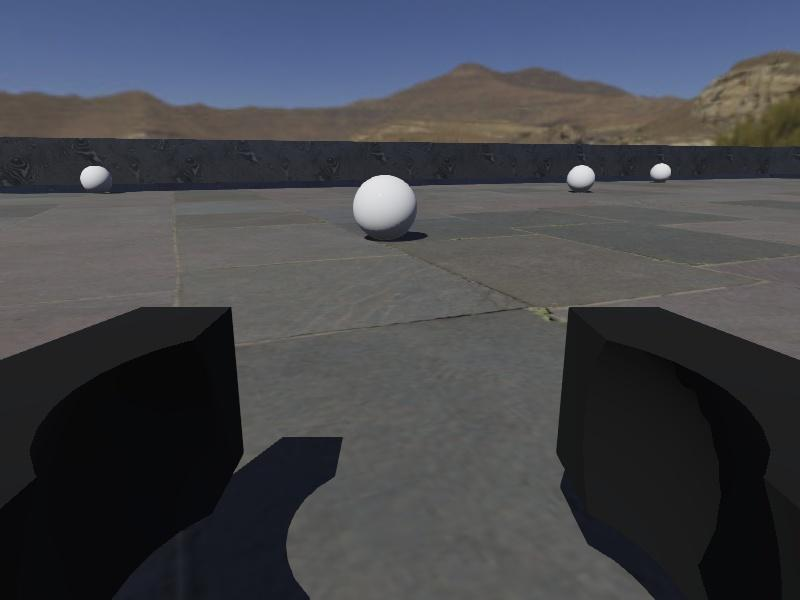white ball: (353, 175, 418, 241), (80, 165, 113, 194), (568, 165, 596, 193), (650, 163, 672, 183)
